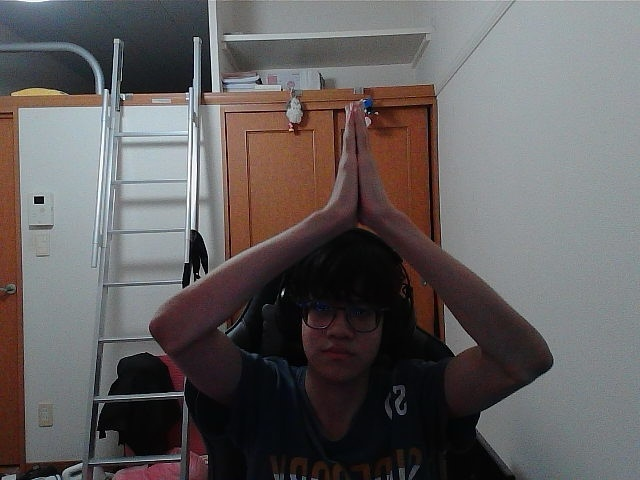pray: (352, 107, 357, 203)
